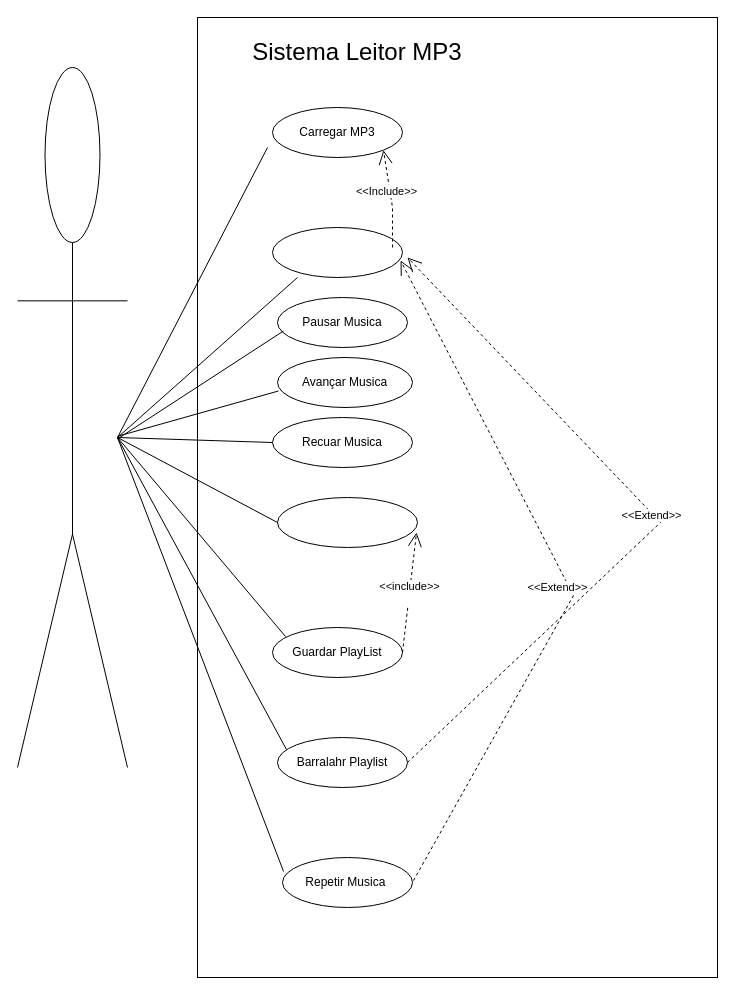
Image size: 735x995. Some labels were removed from this diagram. The box of each missing label's shape, as (x1, y1, x2, y2) in pixels:
Criar PlayList: (276, 496, 418, 548)
Tocar Musica: (272, 226, 402, 278)
Utiliza dor: (16, 66, 128, 768)
